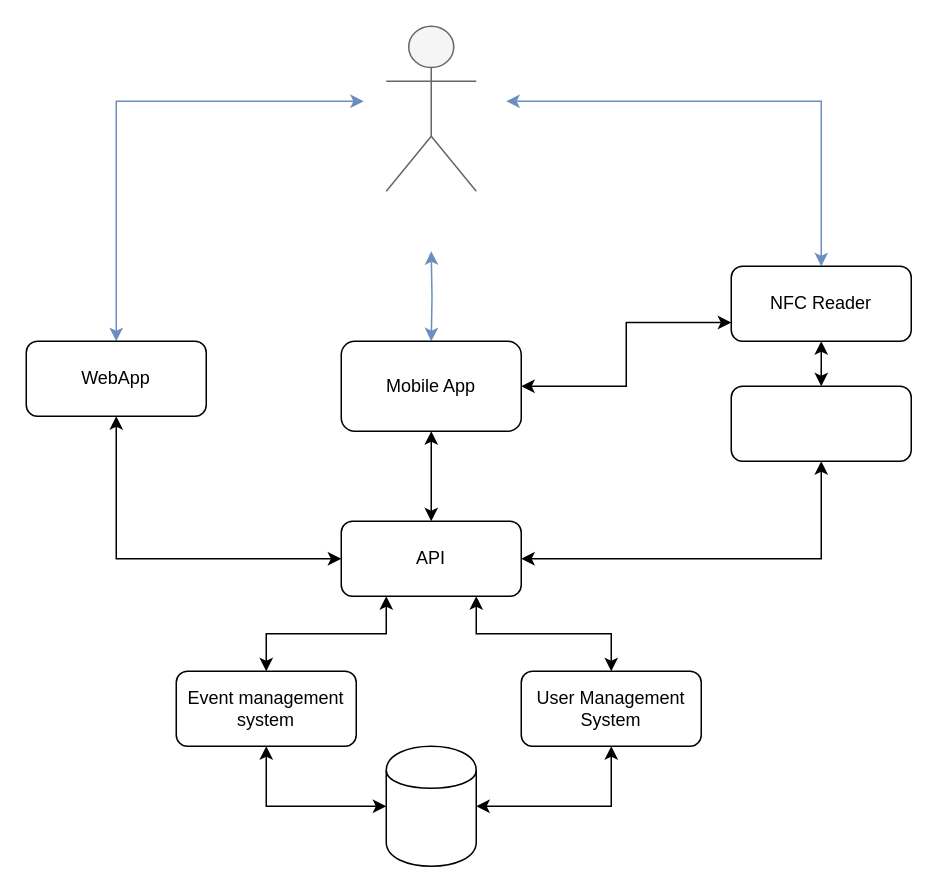
Some shapes in this 938 by 893 pixel diagram are drawn without their labels. Each missing label, with the centre of its shape:
DataBase: (430,805)
SafeHouse Lock ( Integrated Computer ): (820,423)
USER: (430,108)
